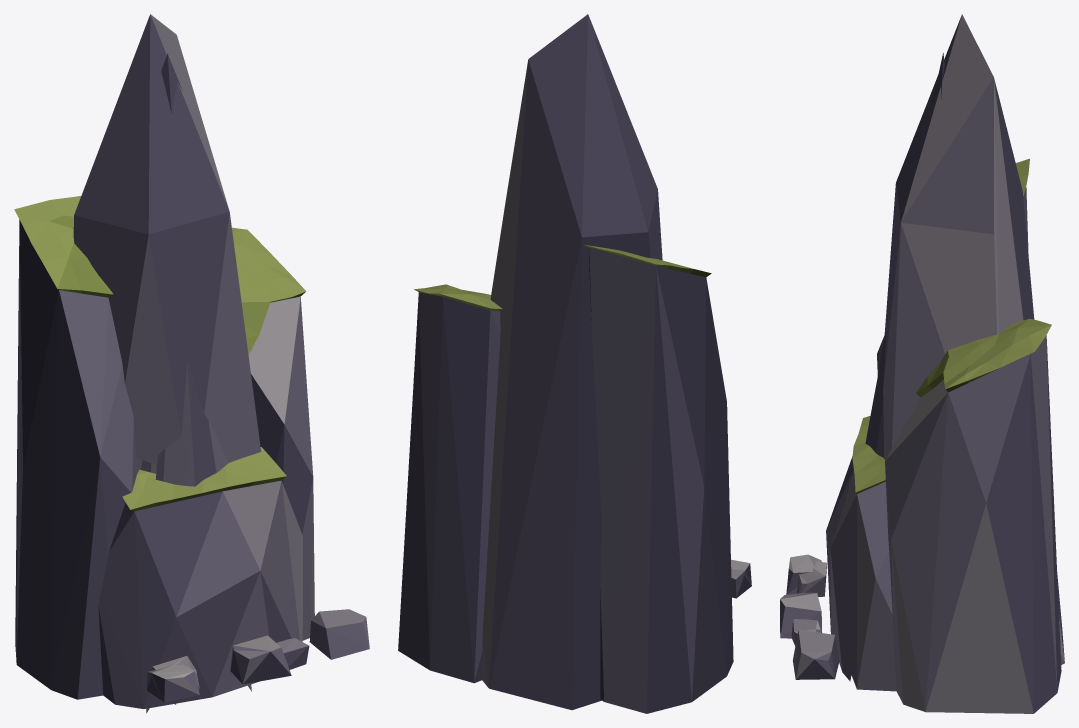
File: mtn_cliff_b.glb
3 renders of one model, left to right at view 1: azimuth 30°, elevation 25°; view 2: azimuth 150°, elevation 25°; view 3: azimuth 270°, elevation 25°, orthographic. The views are drawn at different scales.
Parts seen in each view (by area): view 1: mtn_cliff_b; view 2: mtn_cliff_b; view 3: mtn_cliff_b.
Boxes of the visible parts, x1,y1,x2,y2 form: mtn_cliff_b: (14, 14, 369, 713); mtn_cliff_b: (398, 14, 751, 713); mtn_cliff_b: (780, 14, 1064, 713).
Size of the model in its own units: 16.72 by 38 by 15.23.
